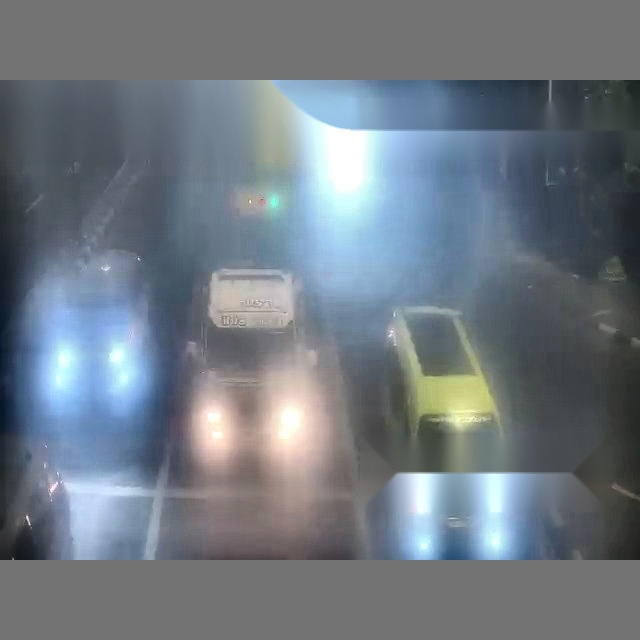Bis: (14, 208, 171, 558)
Mobil: (390, 304, 506, 473)
